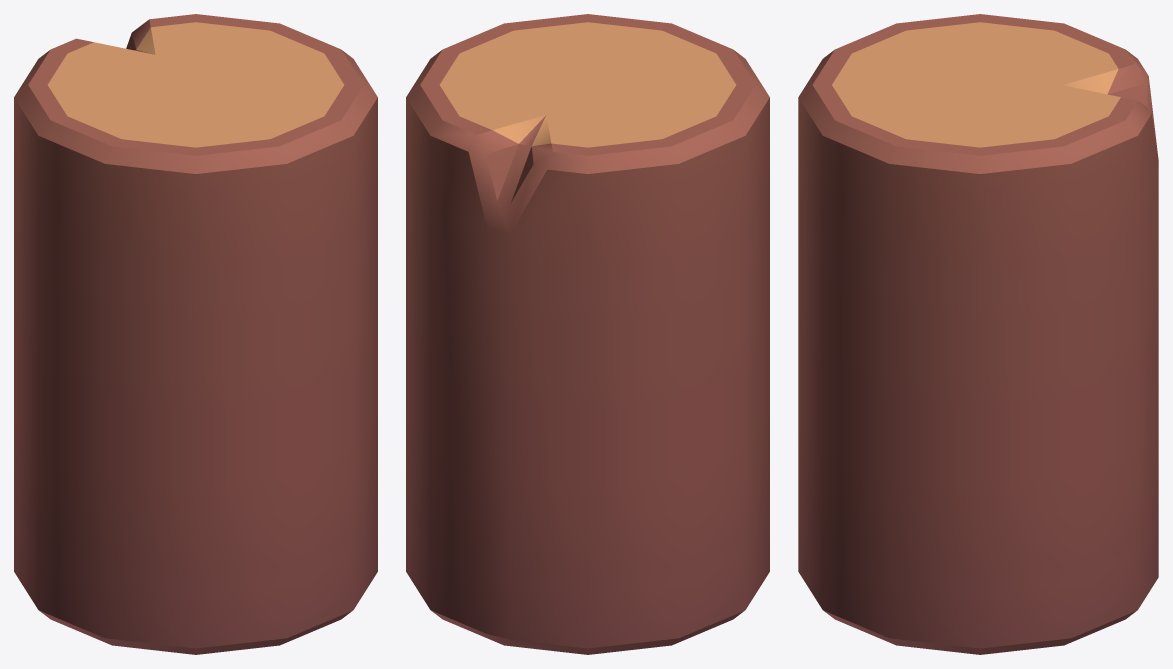
File: Firewood.fbx
The picture shows the model from 3 angles, left to right: view 1: azimuth 30°, elevation 25°; view 2: azimuth 150°, elevation 25°; view 3: azimuth 270°, elevation 25°; orthographic projection.
Visible parts, largest first — view 1: firewood; view 2: firewood; view 3: firewood.
Part boxes in pixels (<box>): firewood: <box>14,14,377,654</box>; firewood: <box>406,14,769,654</box>; firewood: <box>798,14,1158,654</box>.
Size of the model in its own units: 53.39 by 80.81 by 52.86.
1 material, 1 textured.
